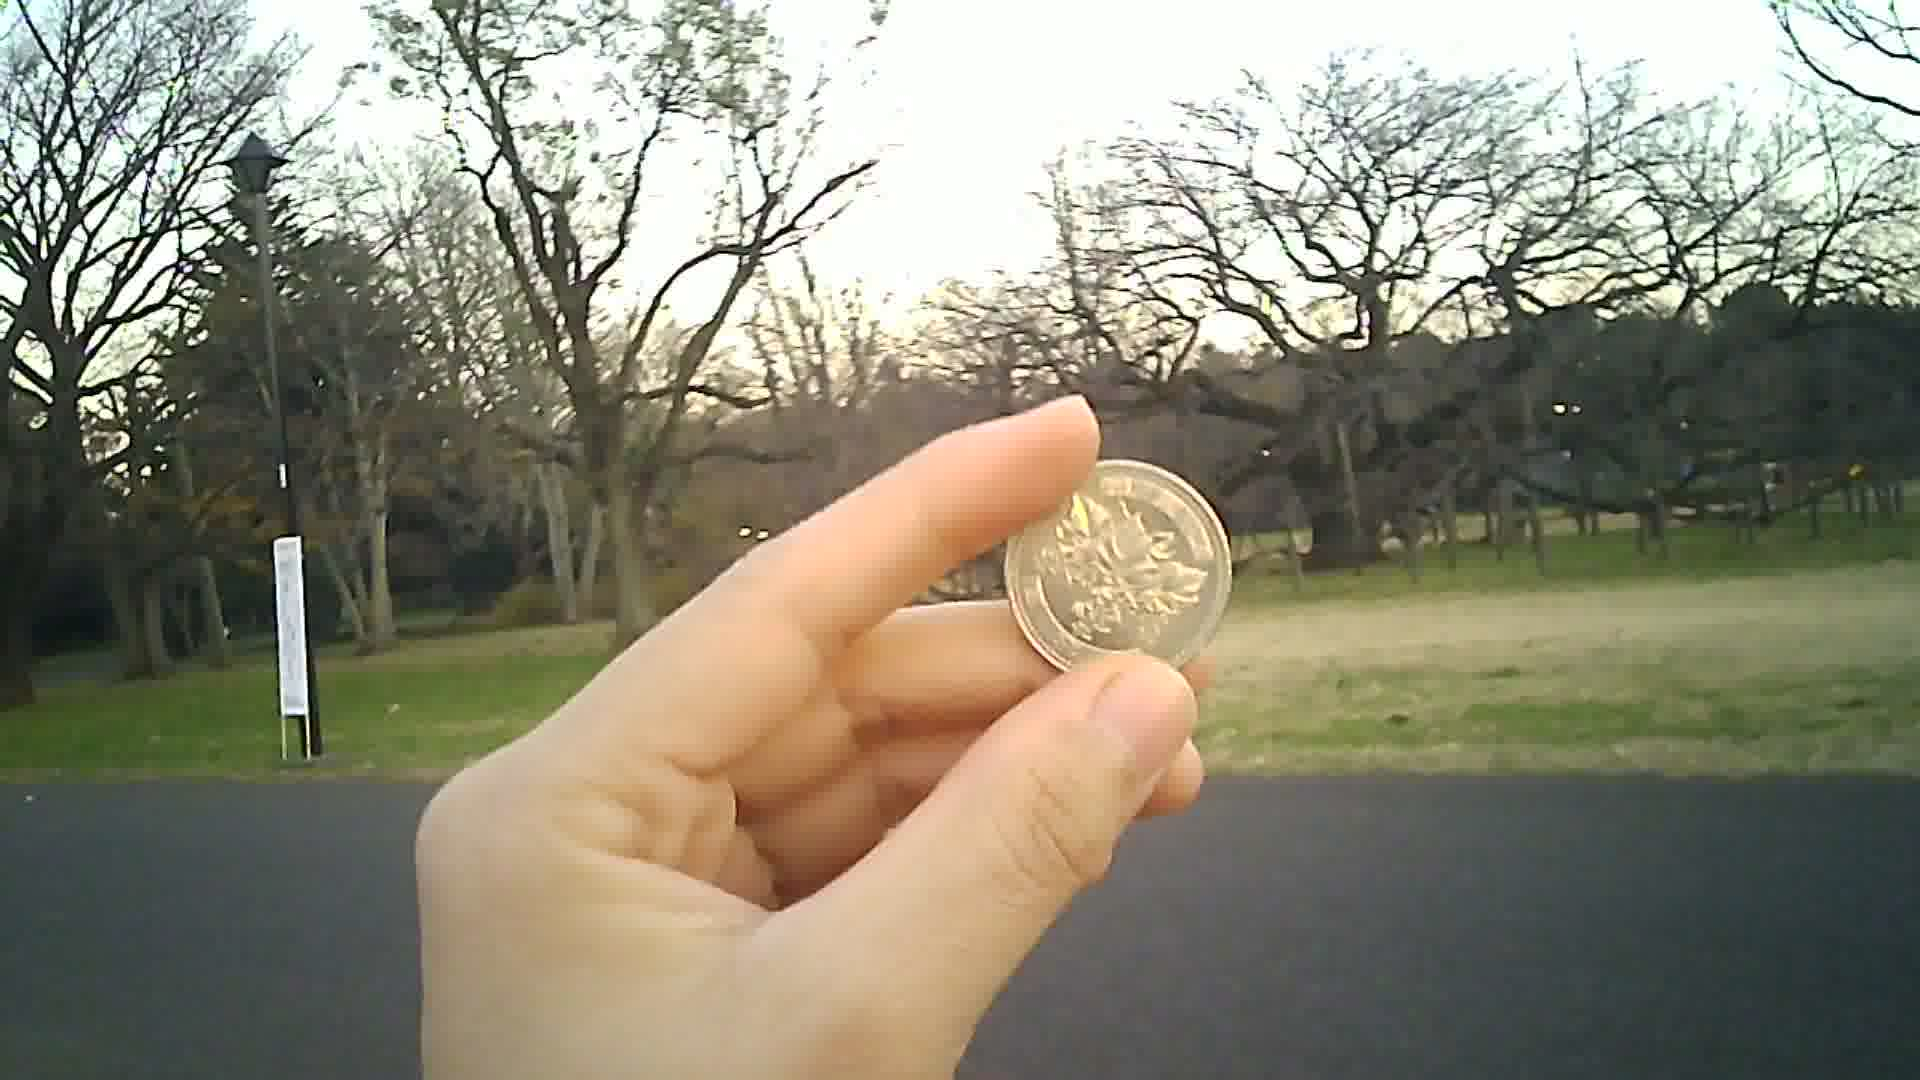500 Yen: (992, 455, 1242, 686)
